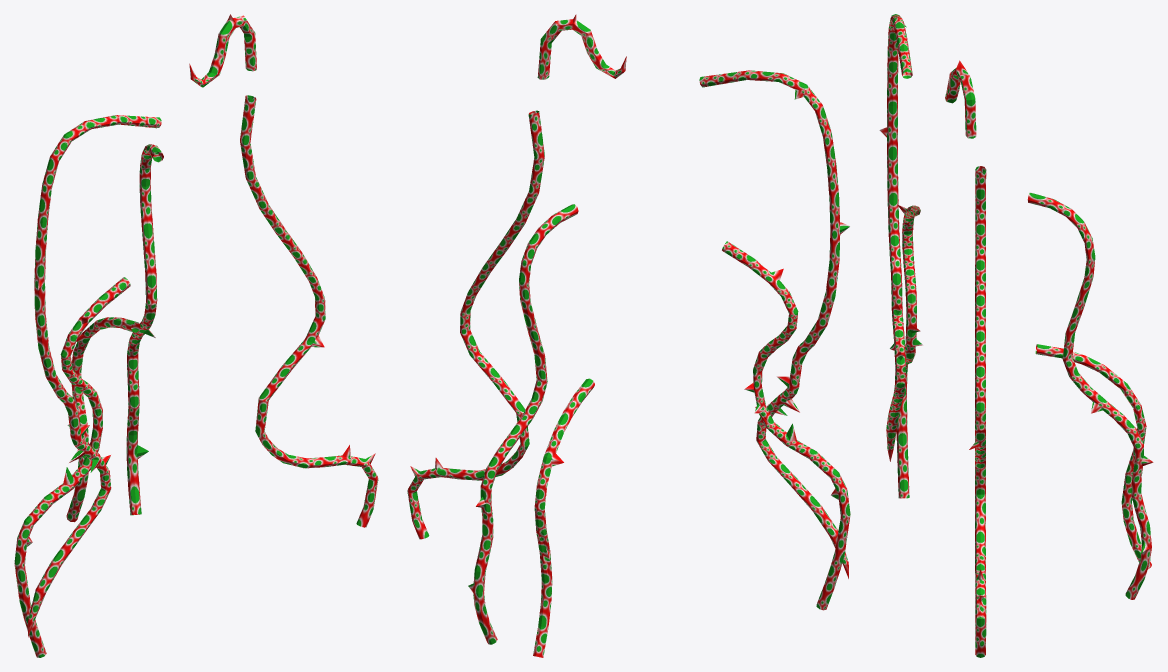
Rendered from rootpaku.dae.
The picture shows the model from 3 angles, left to right: view 1: azimuth 30°, elevation 25°; view 2: azimuth 150°, elevation 25°; view 3: azimuth 270°, elevation 25°; orthographic projection. The views are drawn at different scales.
Visible parts, largest first — view 1: m0; view 2: m0; view 3: m0.
Part boxes in pixels (<box>): m0: <box>14,14,378,657</box>; m0: <box>407,14,850,657</box>; m0: <box>879,14,1153,657</box>.
Size of the model in its own units: 4066 by 5460 by 2511.
Materials: 1 (1 with a texture image).
